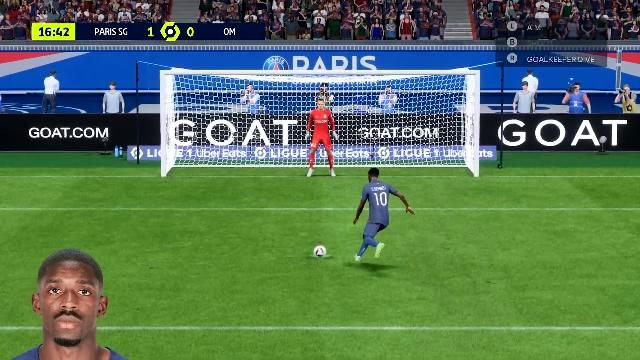bottom-left: (170, 126, 274, 180)
bottom-right: (360, 126, 470, 178)
center-down: (276, 128, 358, 180)
center-up: (275, 80, 359, 126)
football: (315, 246, 325, 254)
goalkeeper: (306, 104, 338, 180)
player: (348, 166, 414, 264)
top-left: (169, 78, 273, 126)
top-right: (360, 78, 470, 126)
